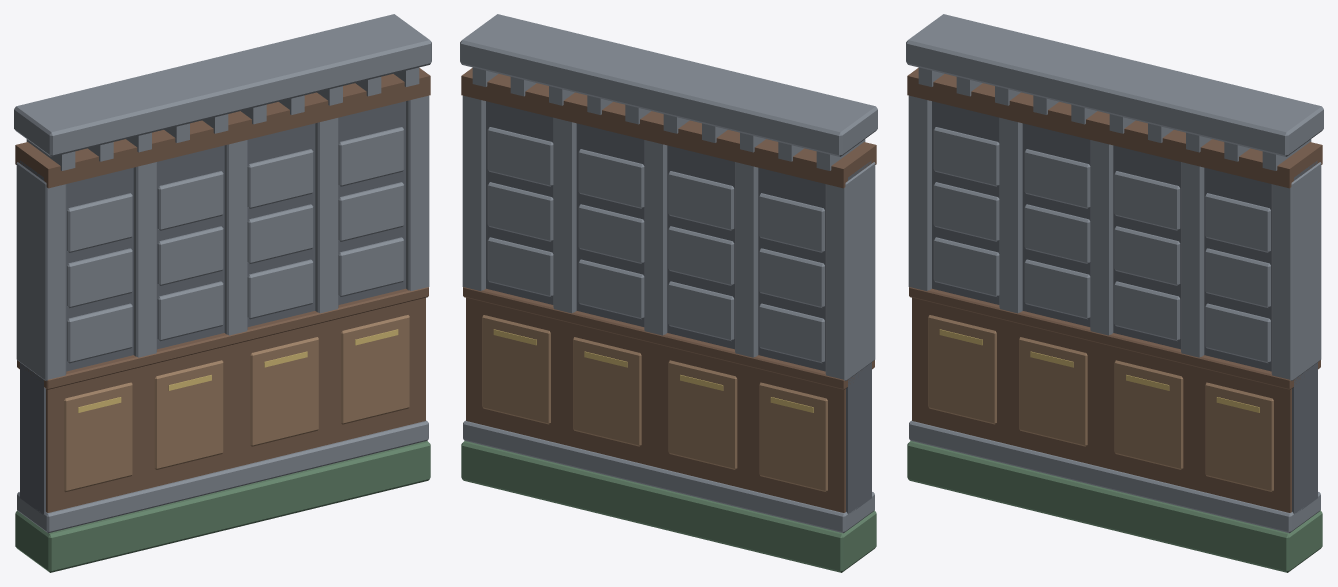
The model's file is castle_wall.glb.
3 views of the same model, side by side, from view 1: azimuth 30°, elevation 25°; view 2: azimuth 150°, elevation 25°; view 3: azimuth 330°, elevation 25° (orthographic).
Visible parts, largest first — view 1: Castle_Wall; view 2: Castle_Wall; view 3: Castle_Wall.
Boxes of the visible parts, x1,y1,x2,y2 form: Castle_Wall: (14, 14, 431, 572); Castle_Wall: (460, 14, 877, 572); Castle_Wall: (906, 14, 1323, 572).
Size of the model in its own units: 4.02 by 4.42 by 0.69.
